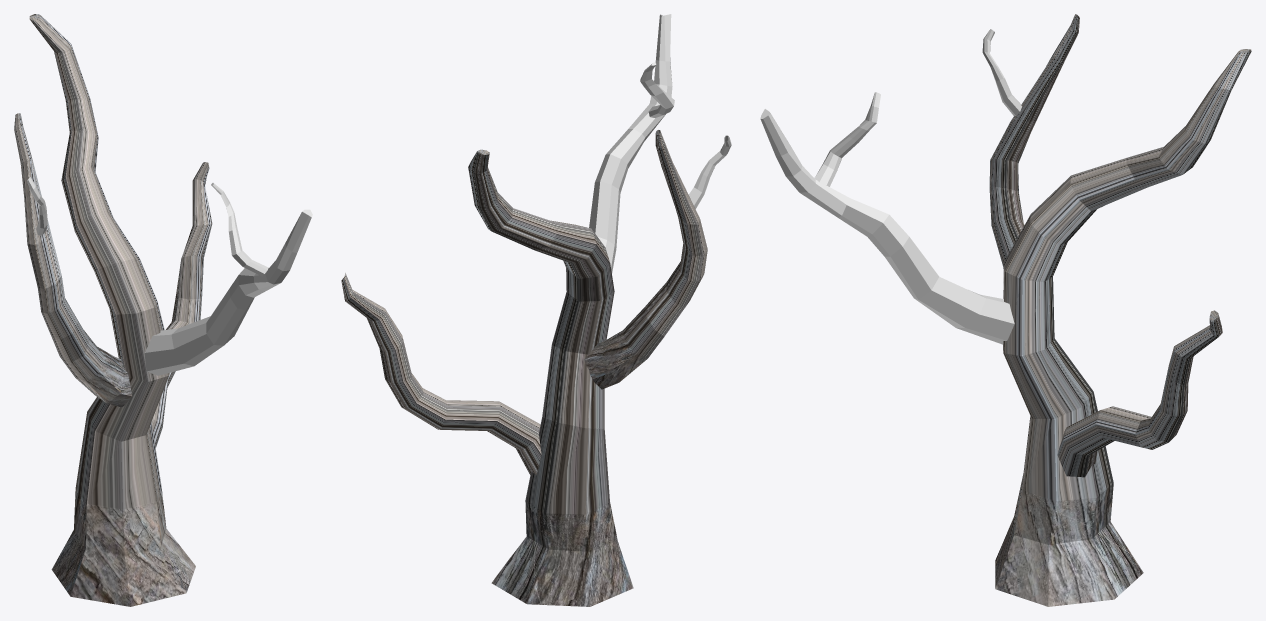
Rendered from Tree1.fbx.
The picture shows the model from 3 angles, left to right: view 1: azimuth 30°, elevation 25°; view 2: azimuth 150°, elevation 25°; view 3: azimuth 270°, elevation 25°; orthographic projection. The views are drawn at different scales.
Parts seen in each view (by area): view 1: Cylinder.038, Cylinder.029, Cylinder.040, Cylinder.039, Cylinder.018, Cylinder.030; view 2: Cylinder.038, Cylinder.029, Cylinder.039, Cylinder.040, Cylinder.018, Cylinder.030; view 3: Cylinder.038, Cylinder.040, Cylinder.039, Cylinder.029, Cylinder.018, Cylinder.030.
Part boxes in pixels (<box>): Cylinder.038: <box>29,14,195,606</box>; Cylinder.029: <box>14,113,132,407</box>; Cylinder.040: <box>144,209,312,375</box>; Cylinder.039: <box>151,162,212,447</box>; Cylinder.018: <box>211,183,268,276</box>; Cylinder.030: <box>27,177,47,235</box>; Cylinder.038: <box>468,149,633,606</box>; Cylinder.029: <box>584,130,707,389</box>; Cylinder.039: <box>341,273,541,474</box>; Cylinder.040: <box>589,14,672,272</box>; Cylinder.018: <box>640,62,674,117</box>; Cylinder.030: <box>688,135,731,209</box>; Cylinder.038: <box>995,49,1251,606</box>; Cylinder.040: <box>760,109,1014,344</box>; Cylinder.039: <box>1057,310,1222,477</box>; Cylinder.029: <box>989,14,1079,268</box>; Cylinder.018: <box>814,92,880,186</box>; Cylinder.030: <box>982,29,1021,115</box>.
Size of the model in its own units: 433 by 720 by 613.
